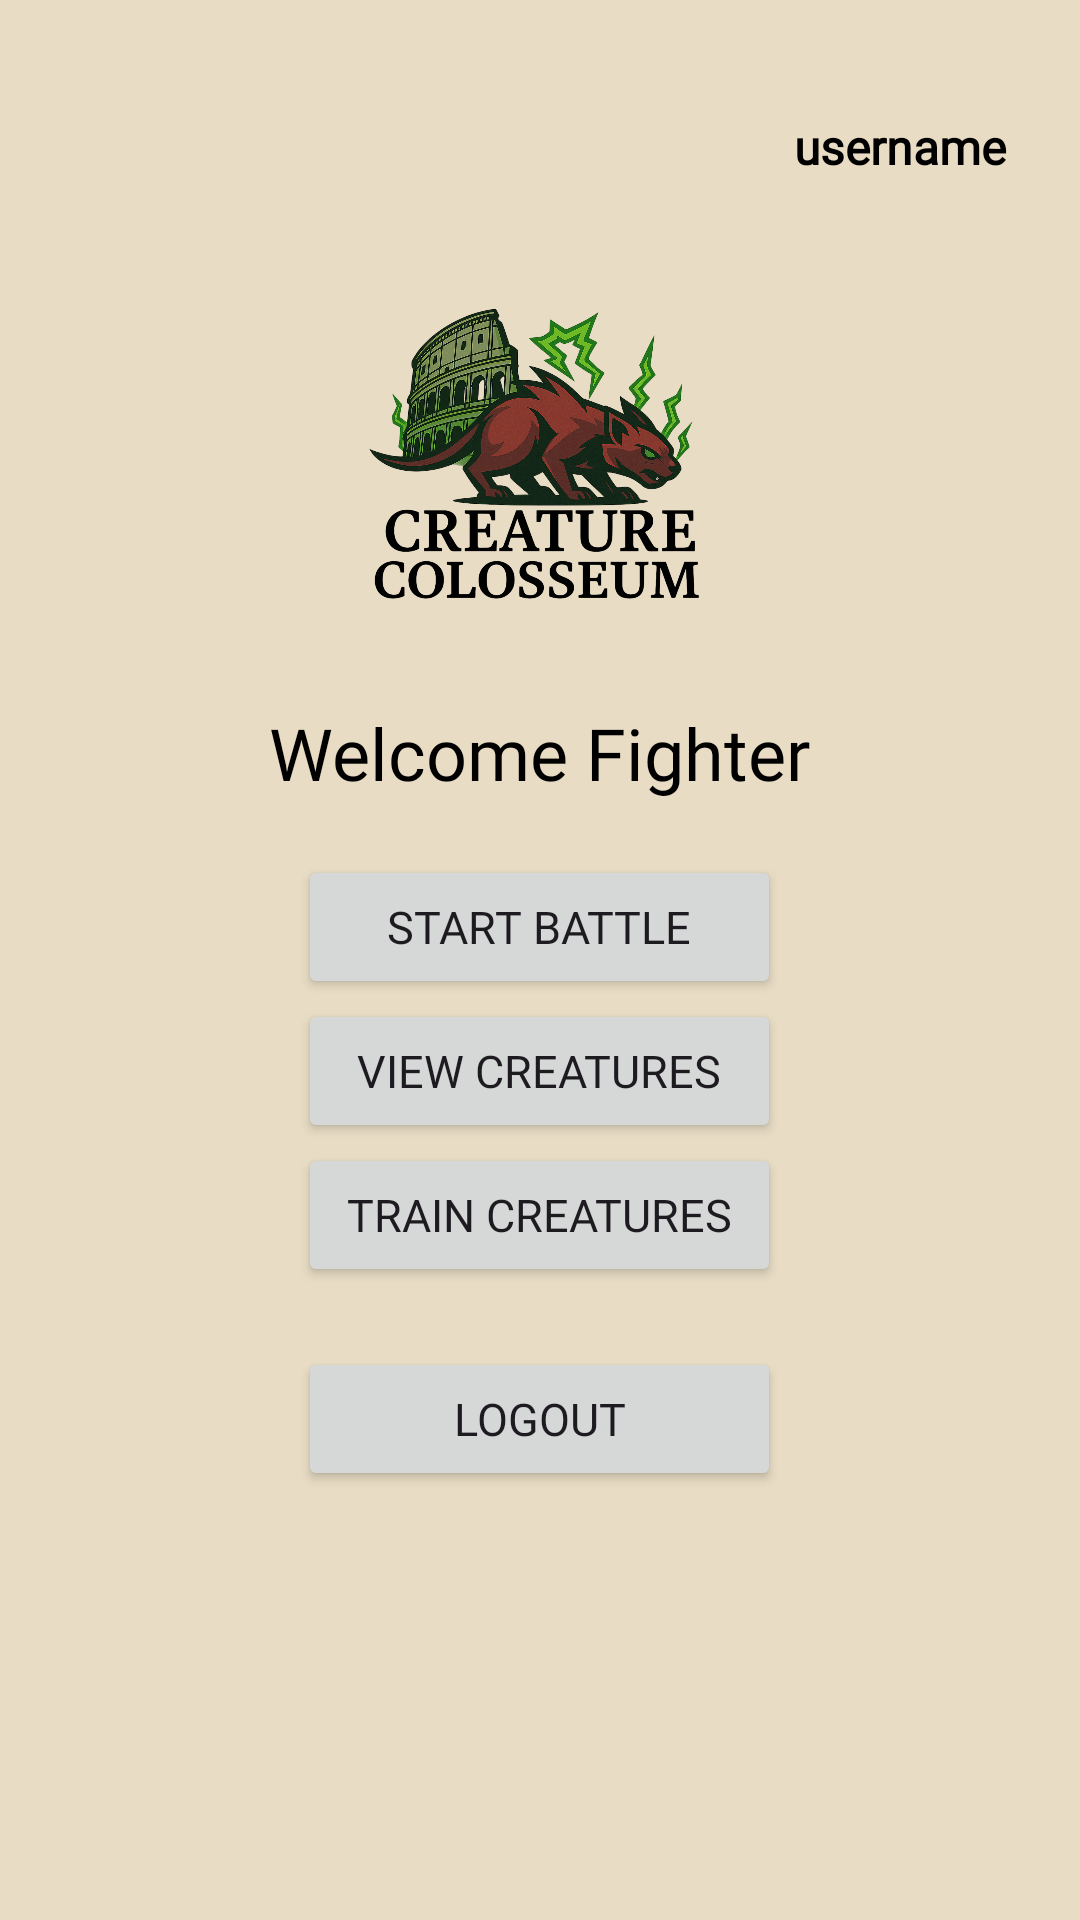

Where to tap for icons on this 1080px×1920px app screen, as [x,y]:
ratwithtitle: [534,454]
